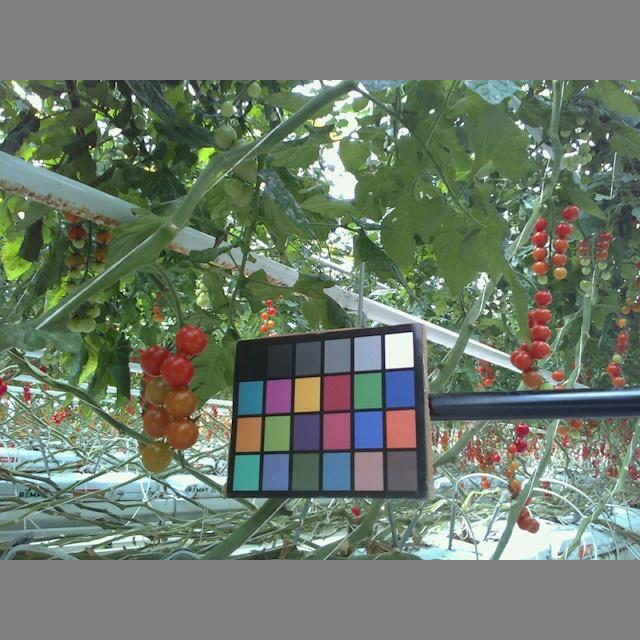pink: (163, 416, 198, 450), (165, 387, 198, 419), (140, 443, 172, 473), (142, 406, 171, 439), (144, 378, 173, 405), (529, 246, 548, 261), (551, 250, 569, 265), (563, 204, 582, 218), (555, 224, 572, 237), (532, 261, 549, 273), (554, 237, 568, 251), (551, 267, 566, 278)
red: (159, 354, 194, 387), (175, 323, 208, 354), (139, 344, 170, 375), (527, 341, 551, 361), (514, 350, 535, 371), (528, 324, 552, 342), (531, 309, 552, 326), (530, 230, 549, 246), (537, 288, 552, 305)
